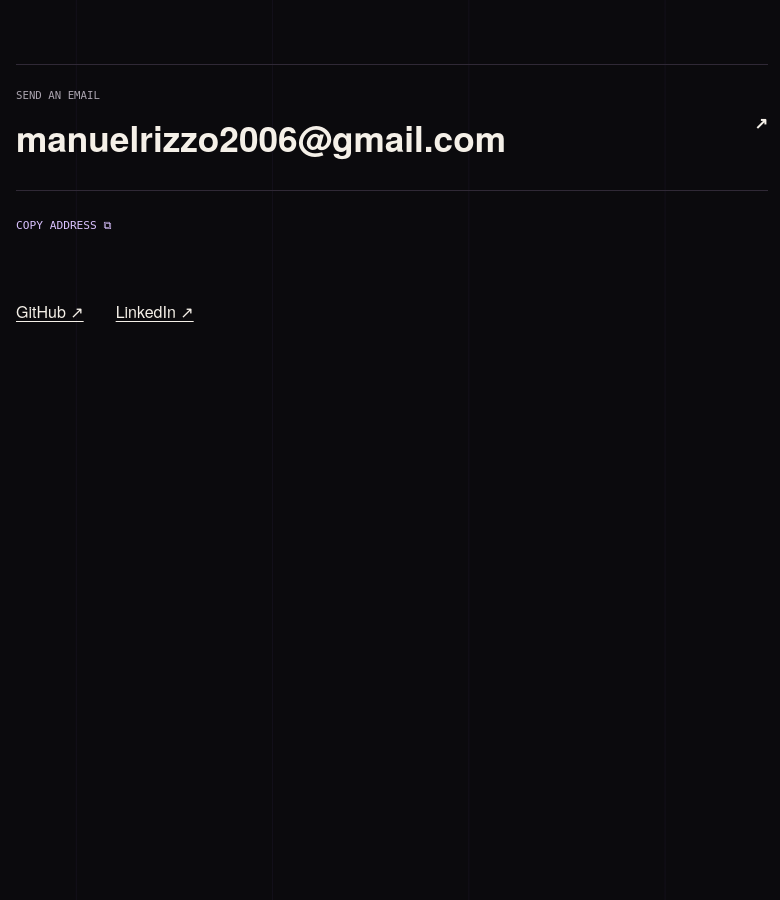
it: contact panel › offers direct email and confirms clipboard copy
Expected: the link to "mailto:manuelrizzo2006@gmail.com" is shown, 16,64 -> 768,191
Step 1. Click the button "Copy address ⧉" → {"x": 64, "y": 225}, box 16,207 -> 112,243
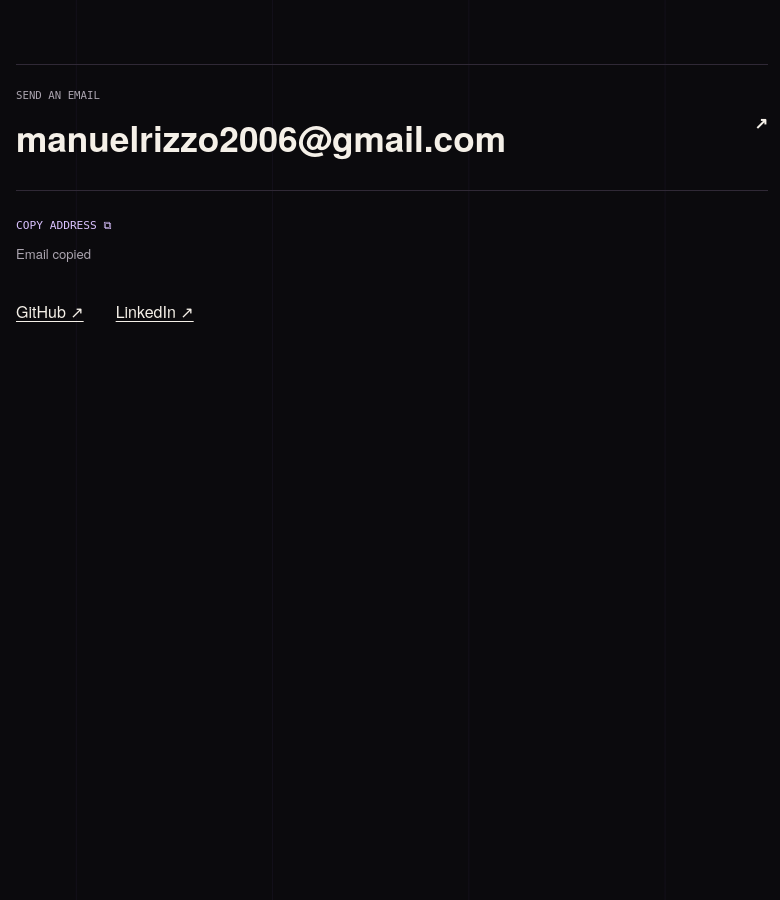
Result: the message "Email copied" is shown at 16,244 -> 91,263
